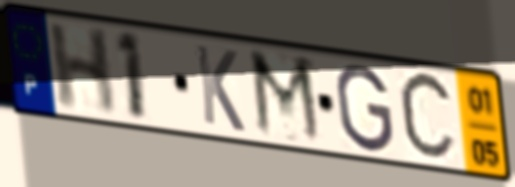1: (113, 28, 153, 126)
C: (395, 68, 460, 167)
G: (333, 62, 397, 155)
H: (46, 21, 119, 118)
K: (192, 41, 248, 136)
M: (245, 46, 327, 150)
